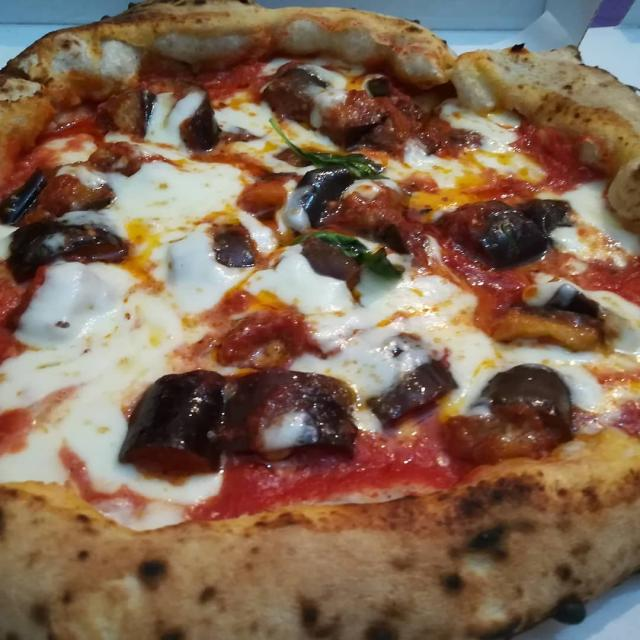basil: (266, 115, 385, 182), (293, 228, 405, 287)
pizza: (0, 0, 640, 639)
